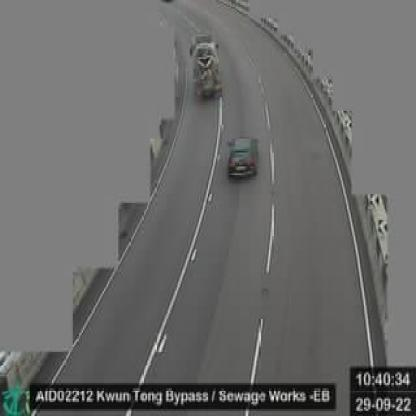Car: (220, 127, 268, 192)
Truck: (188, 32, 232, 96)
